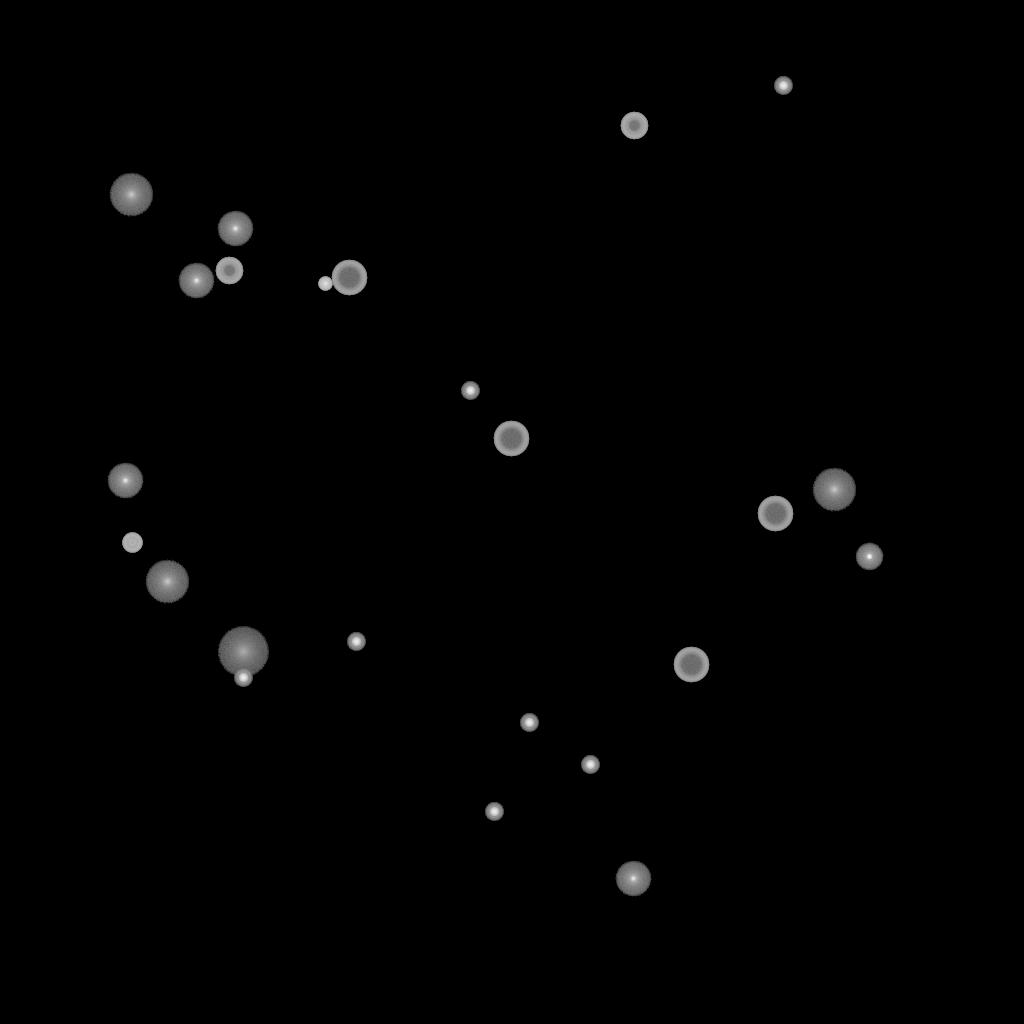depth:-10: (855, 543, 883, 571)
depth:-20: (520, 714, 538, 732), (461, 382, 479, 400), (774, 77, 792, 95), (347, 633, 365, 651), (234, 669, 252, 687), (581, 756, 599, 774), (485, 803, 503, 821)
depth:-30: (318, 277, 332, 291)
depth:-40: (122, 533, 142, 553)
depth:-50: (215, 257, 243, 285), (620, 112, 648, 140)
depth:-60: (757, 496, 793, 532), (673, 647, 709, 683), (493, 421, 529, 457), (331, 260, 367, 296)
depth:0: (615, 861, 651, 897), (178, 263, 214, 299), (107, 463, 143, 499), (217, 211, 253, 247)
depth:10: (109, 173, 153, 217), (812, 468, 856, 512), (145, 560, 189, 604)
depth:20: (217, 627, 269, 677)
